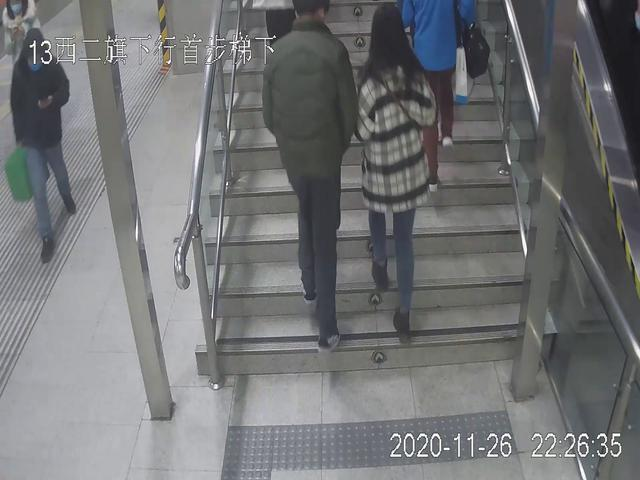person: (258, 1, 355, 359), (351, 1, 438, 352), (1, 25, 79, 265), (396, 1, 488, 196)
